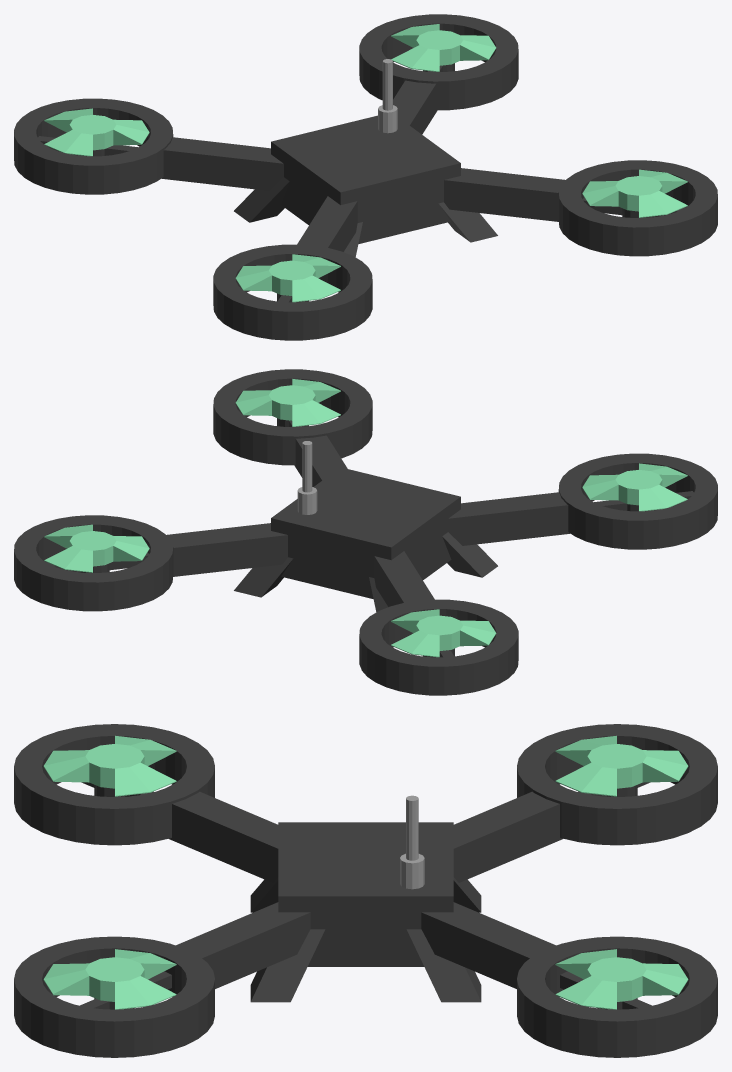
The model's file is quadcopter.glb.
3 renders of one model, top to bottom at view 1: azimuth 30°, elevation 25°; view 2: azimuth 150°, elevation 25°; view 3: azimuth 270°, elevation 25°, orthographic. The views are drawn at different scales.
Visible parts, largest first — view 1: Cylinder, Cylinder.001; view 2: Cylinder, Cylinder.001; view 3: Cylinder, Cylinder.001.
Part boxes in pixels (bbox=[...]): Cylinder: bbox=[14, 14, 717, 340]; Cylinder.001: bbox=[378, 59, 397, 133]; Cylinder: bbox=[14, 369, 717, 695]; Cylinder.001: bbox=[297, 441, 317, 514]; Cylinder: bbox=[14, 724, 717, 1057]; Cylinder.001: bbox=[400, 795, 424, 889].
Bounding box in the file's own units: 0.175 × 0.0481 × 0.175.
